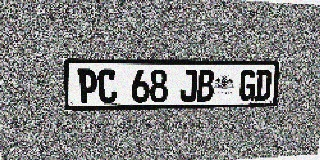6: (131, 69, 150, 103)
8: (150, 69, 168, 103)
B: (197, 69, 214, 102)
C: (98, 69, 117, 103)
D: (255, 70, 272, 101)
G: (239, 70, 256, 101)
J: (180, 69, 197, 102)
P: (77, 69, 98, 104)
